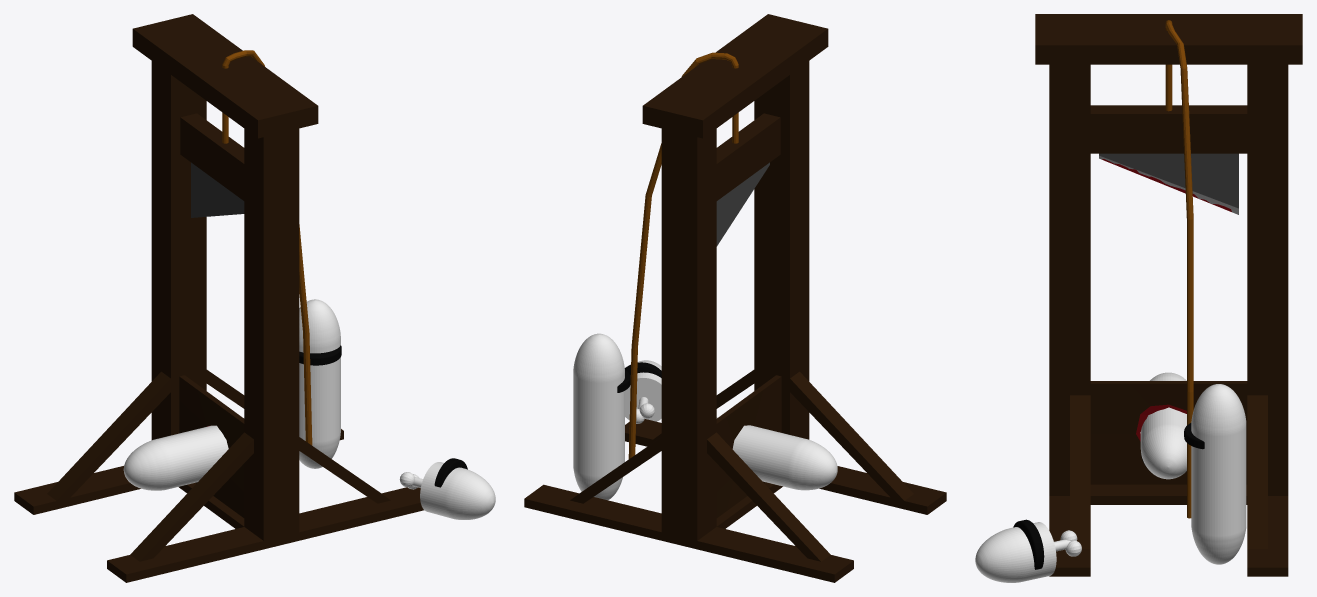
The model's file is Guillotine.fbx.
3 renders of one model, left to right at view 1: azimuth 30°, elevation 25°; view 2: azimuth 150°, elevation 25°; view 3: azimuth 270°, elevation 25°, orthographic. The views are drawn at different scales.
Parts seen in each view (by area): view 1: Guillotine; view 2: Guillotine; view 3: Guillotine.
Part boxes in pixels (box(x1,y1,x2,y2)): Guillotine: box(14, 14, 495, 582); Guillotine: box(524, 14, 946, 582); Guillotine: box(975, 14, 1302, 582).
Size of the model in its own units: 1405 by 1792 by 1091.
